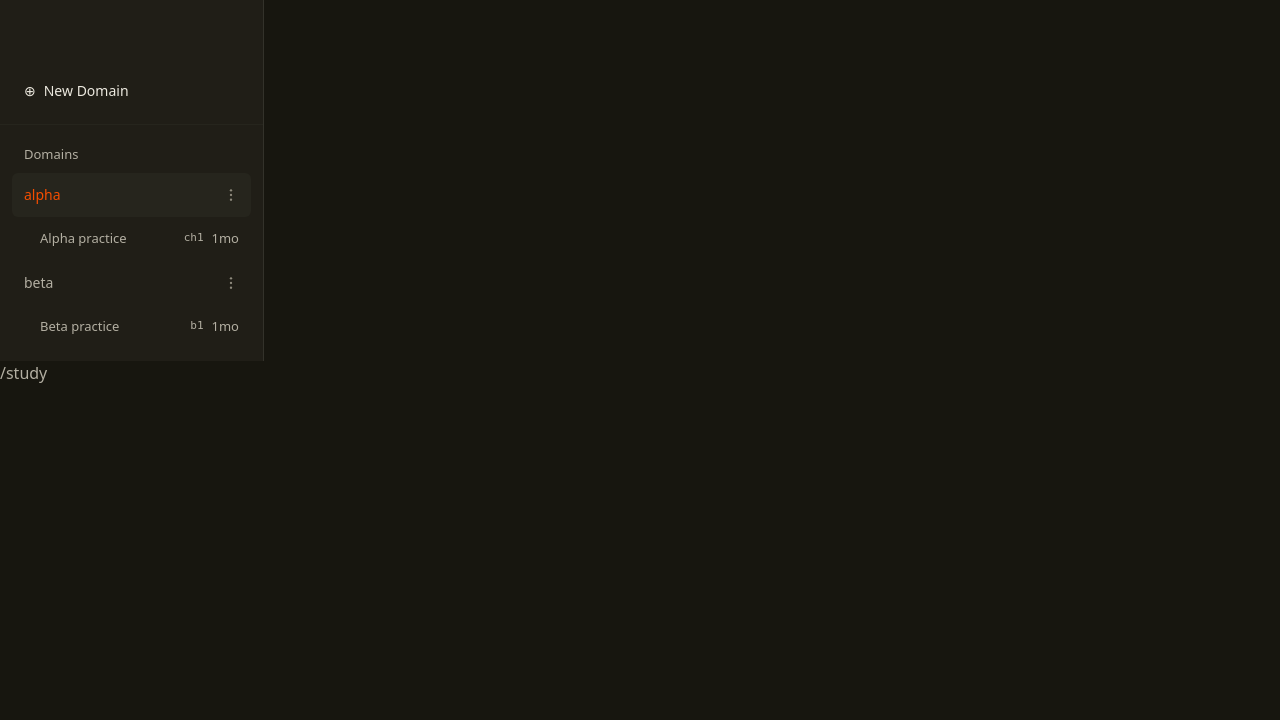
Test case: Sidebar domain menu › warns about cascading deletion and can cancel
The width and height of the screenshot is (1280, 720).
Expected: the link "alpha" is shown, x1=24 y1=185 x2=61 y2=204
Click the button named "Domain actions for alpha".
click(231, 194)  # box x1=215 y1=178 x2=247 y2=210
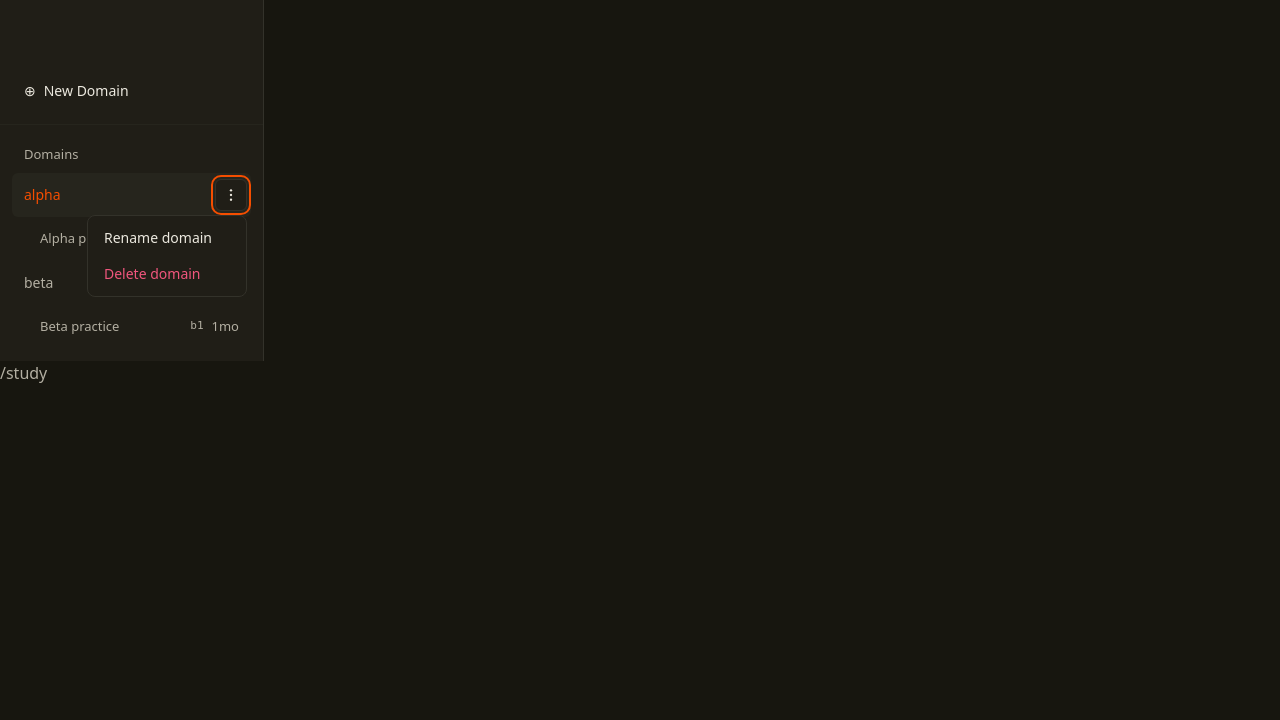
Click the menu item "Delete domain".
click(167, 274)  # box x1=92 y1=256 x2=242 y2=292
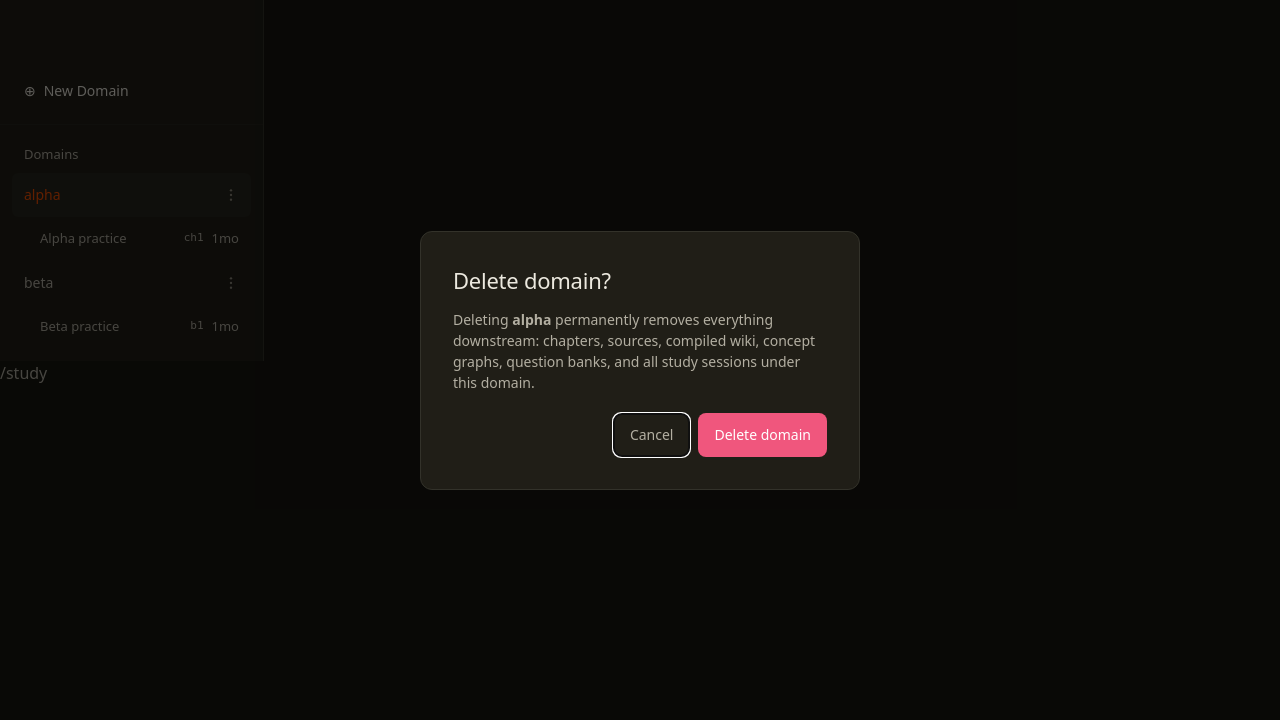
Result: the dialog "Delete domain?" is shown at x1=420 y1=230 x2=860 y2=490
Result: the text "sessions" is shown at x1=453 y1=310 x2=815 y2=392
Click the button "Cancel".
click(652, 434)  # box x1=613 y1=412 x2=690 y2=456
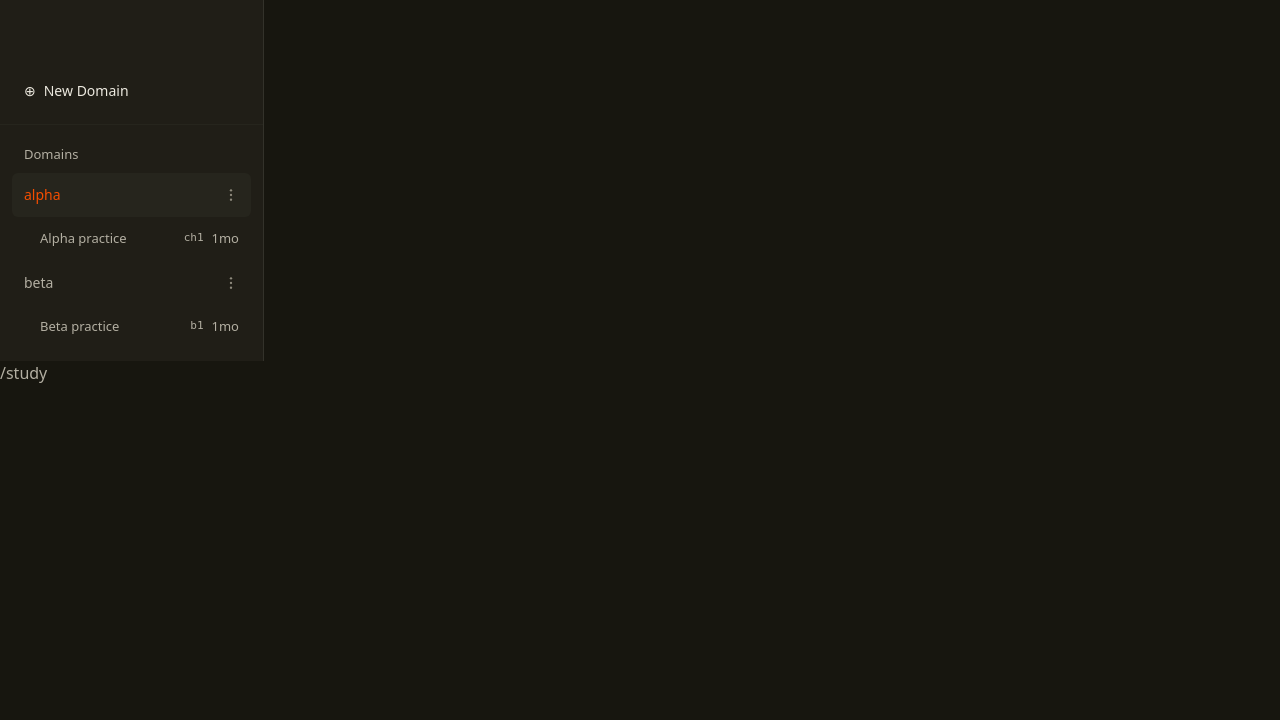
Result: the heading "Delete domain?" is gone
